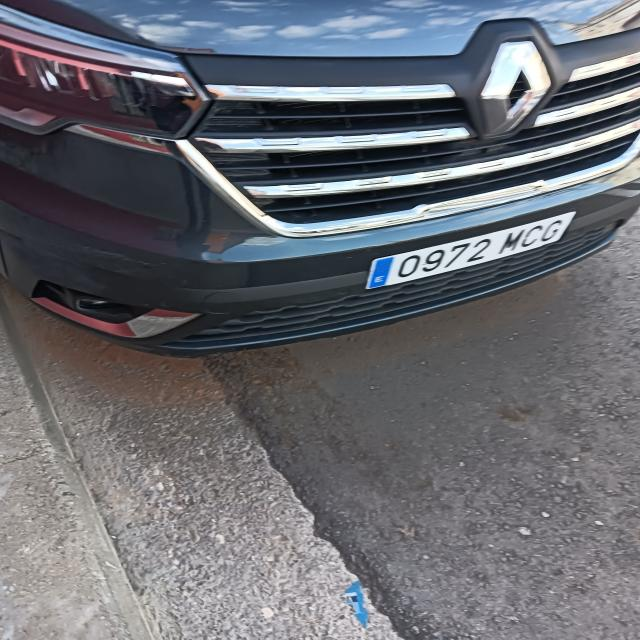license_plate-34Td: (366, 213, 571, 289)
